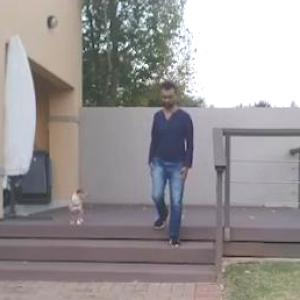follow: (152, 79, 195, 249)
